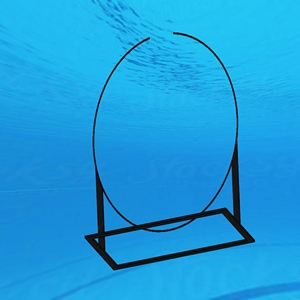circle: (82, 30, 259, 277)
